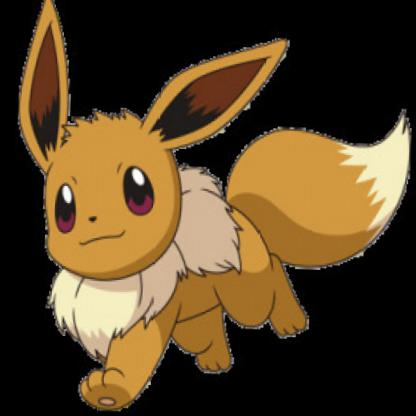Eevee: (26, 1, 416, 416)
